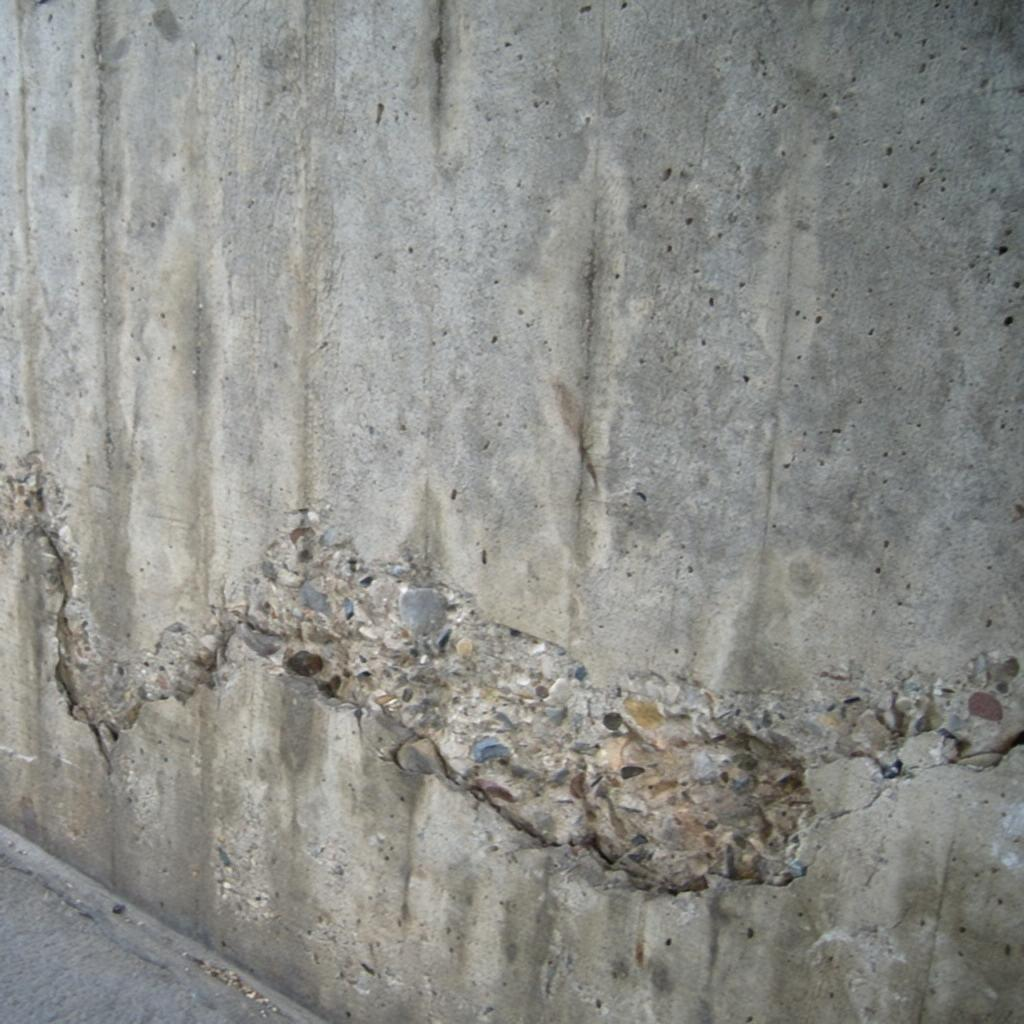spalling: (0, 462, 1024, 892)
